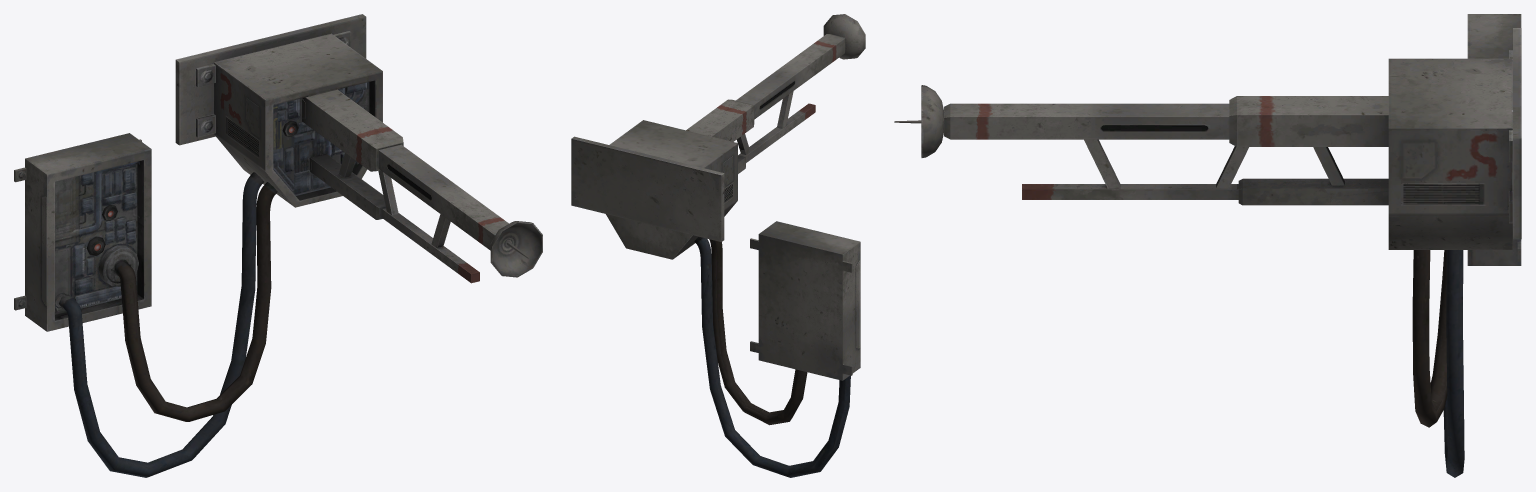
The model's file is robot_disabler_devise_flesher.DAE.
3 renders of one model, left to right at view 1: azimuth 30°, elevation 25°; view 2: azimuth 150°, elevation 25°; view 3: azimuth 270°, elevation 25°, orthographic. The views are drawn at different scales.
Parts seen in each view (by area): view 1: Box018; view 2: Box018; view 3: Box018.
Part boxes in pixels (left/top/right/bottom): Box018: left=14, top=14, right=542, bottom=477; Box018: left=571, top=14, right=865, bottom=477; Box018: left=894, top=14, right=1521, bottom=477.
Bounding box in the file's own units: 0.9664 × 1.02 × 1.24.
